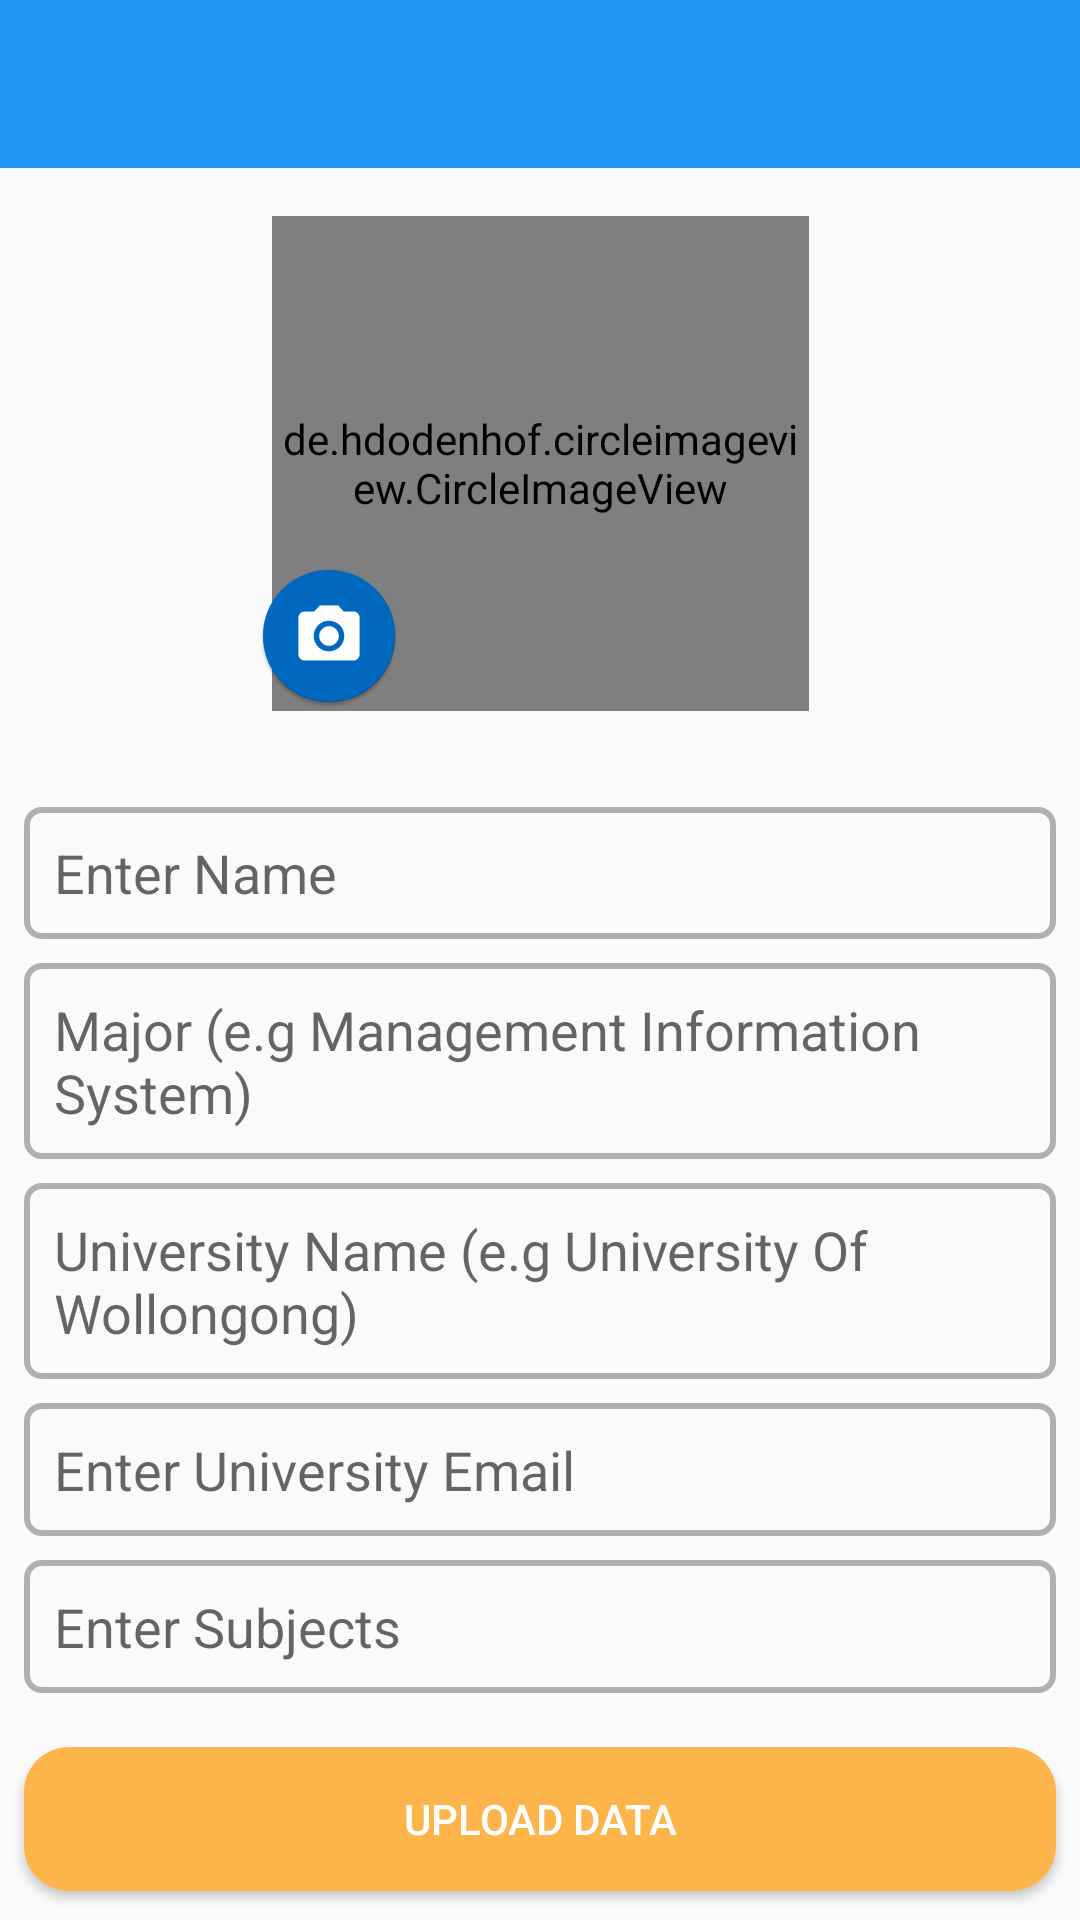

Where to tap for icons on this 1080×1920 app screen, as point (x, y):
photo: point (329, 636)
